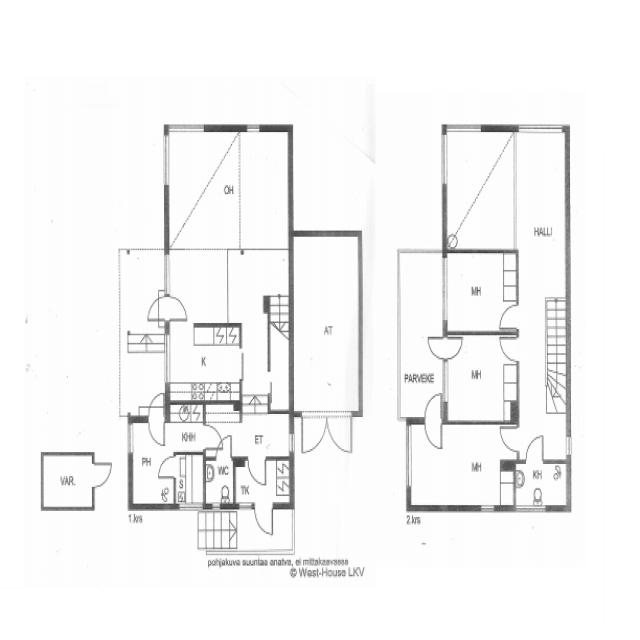door: (130, 420, 174, 508), (496, 426, 540, 459), (422, 389, 444, 452), (146, 391, 167, 447), (426, 332, 464, 360), (252, 501, 275, 536), (522, 432, 547, 464), (165, 291, 190, 322), (497, 332, 521, 363), (497, 423, 521, 454), (497, 300, 520, 331), (90, 459, 114, 488), (246, 455, 268, 486), (202, 422, 224, 450), (156, 453, 178, 480), (145, 294, 166, 322), (215, 432, 235, 458)
window: (145, 325, 174, 408), (438, 252, 450, 326), (403, 420, 415, 490), (438, 130, 449, 190), (517, 121, 563, 135), (161, 131, 172, 189), (165, 120, 207, 135), (162, 327, 172, 387), (444, 120, 484, 134), (161, 248, 172, 298), (22, 316, 32, 367), (514, 502, 549, 513), (126, 420, 136, 456), (441, 358, 449, 402), (177, 500, 206, 512), (564, 431, 574, 459), (477, 501, 498, 514), (236, 500, 254, 512), (245, 122, 262, 134), (288, 428, 296, 453), (210, 501, 223, 512)
zone: (166, 249, 292, 408), (514, 129, 570, 459), (167, 130, 291, 248), (291, 229, 361, 412), (408, 422, 516, 509), (443, 127, 516, 252), (444, 332, 518, 424), (442, 250, 518, 334), (119, 247, 166, 339), (129, 421, 175, 507), (122, 330, 166, 417), (41, 453, 96, 507), (295, 412, 357, 456), (512, 462, 568, 510), (236, 458, 292, 505), (166, 402, 205, 452), (204, 451, 234, 506), (175, 452, 204, 505)
